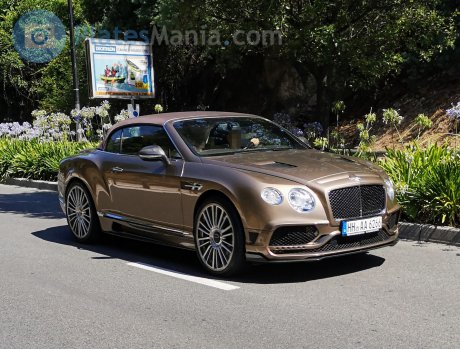License Plates: (343, 221, 389, 233)
